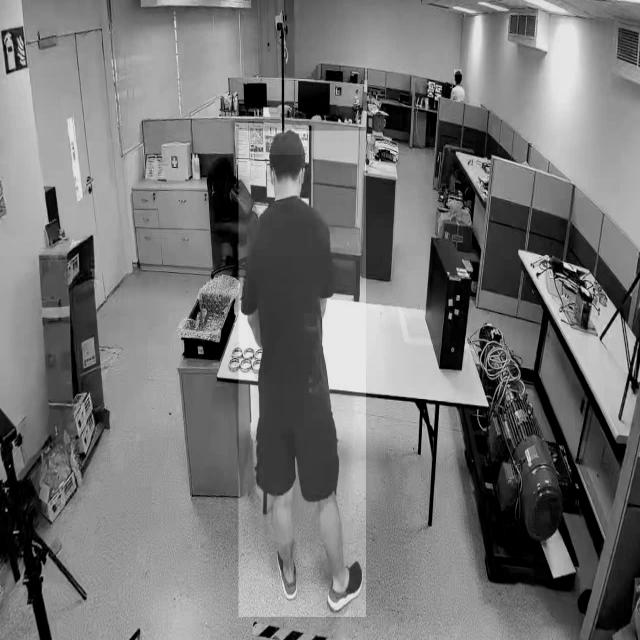head_nohelmet: (269, 129, 307, 155), (454, 70, 462, 76)
person: (238, 130, 366, 618)
shoes: (326, 558, 364, 612), (274, 544, 300, 598)
